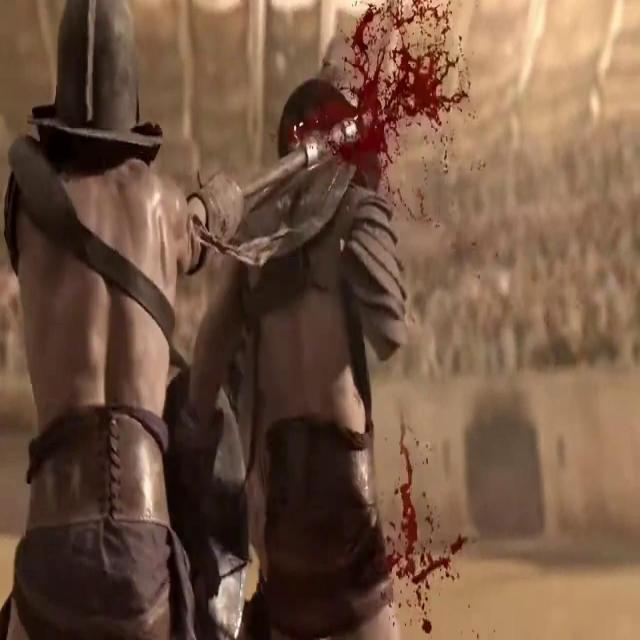flood: (278, 16, 474, 207), (362, 420, 479, 632)
